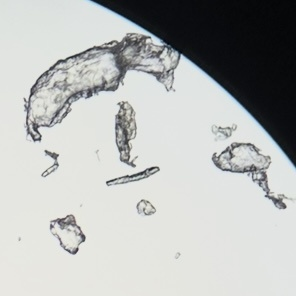microplastic: (24, 33, 180, 141), (212, 143, 295, 209), (115, 101, 139, 169), (50, 215, 86, 255), (106, 167, 161, 186), (211, 124, 237, 142), (42, 150, 59, 177), (136, 199, 156, 215)
